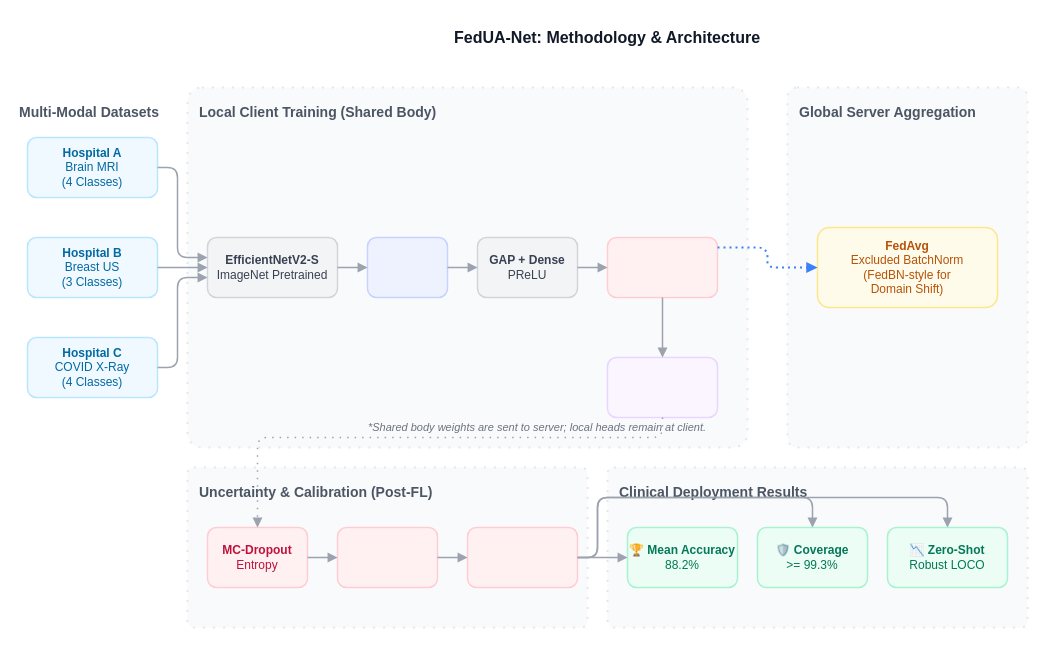
This 1045x645 diagram has some shape labels left out. The shapes that lost their labels are listed below. From the top down, each one's box as (x1, y1, x2, y2) in pixels, then its label:
(366, 236, 448, 298): CBAM Attention
(606, 236, 718, 298): MC-Dropout (0.30)
(606, 356, 718, 418): Local Head Client Softmax
(336, 526, 438, 588): Temperature Scaling
(466, 526, 578, 588): Conformal Prediction (APS)
